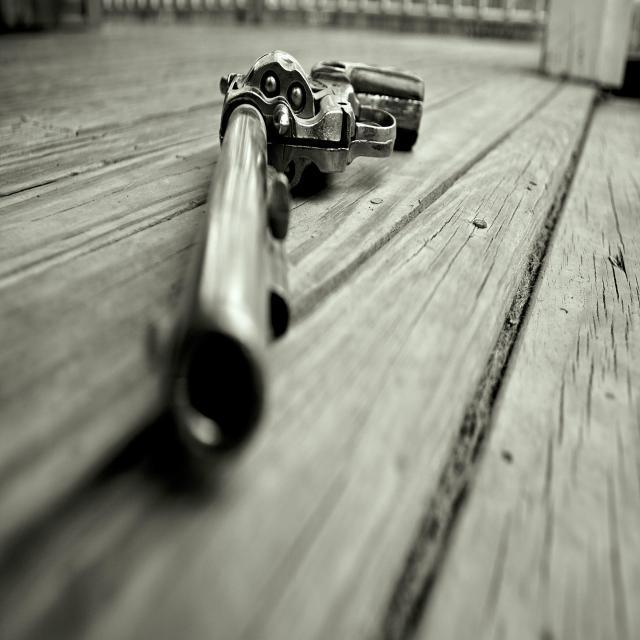gun: (152, 30, 434, 485)
